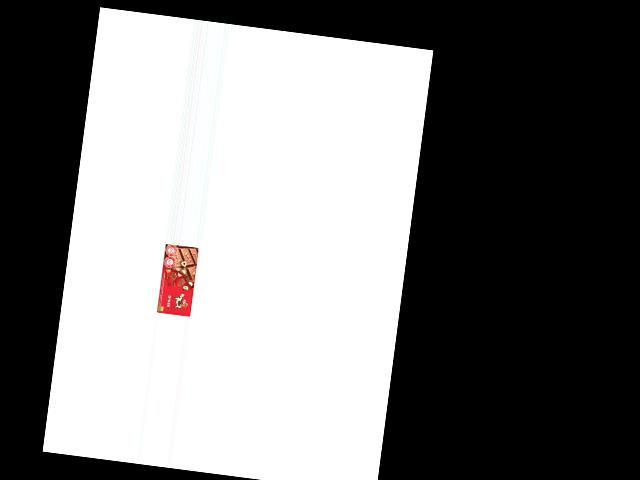chocolate: (156, 243, 199, 317)
